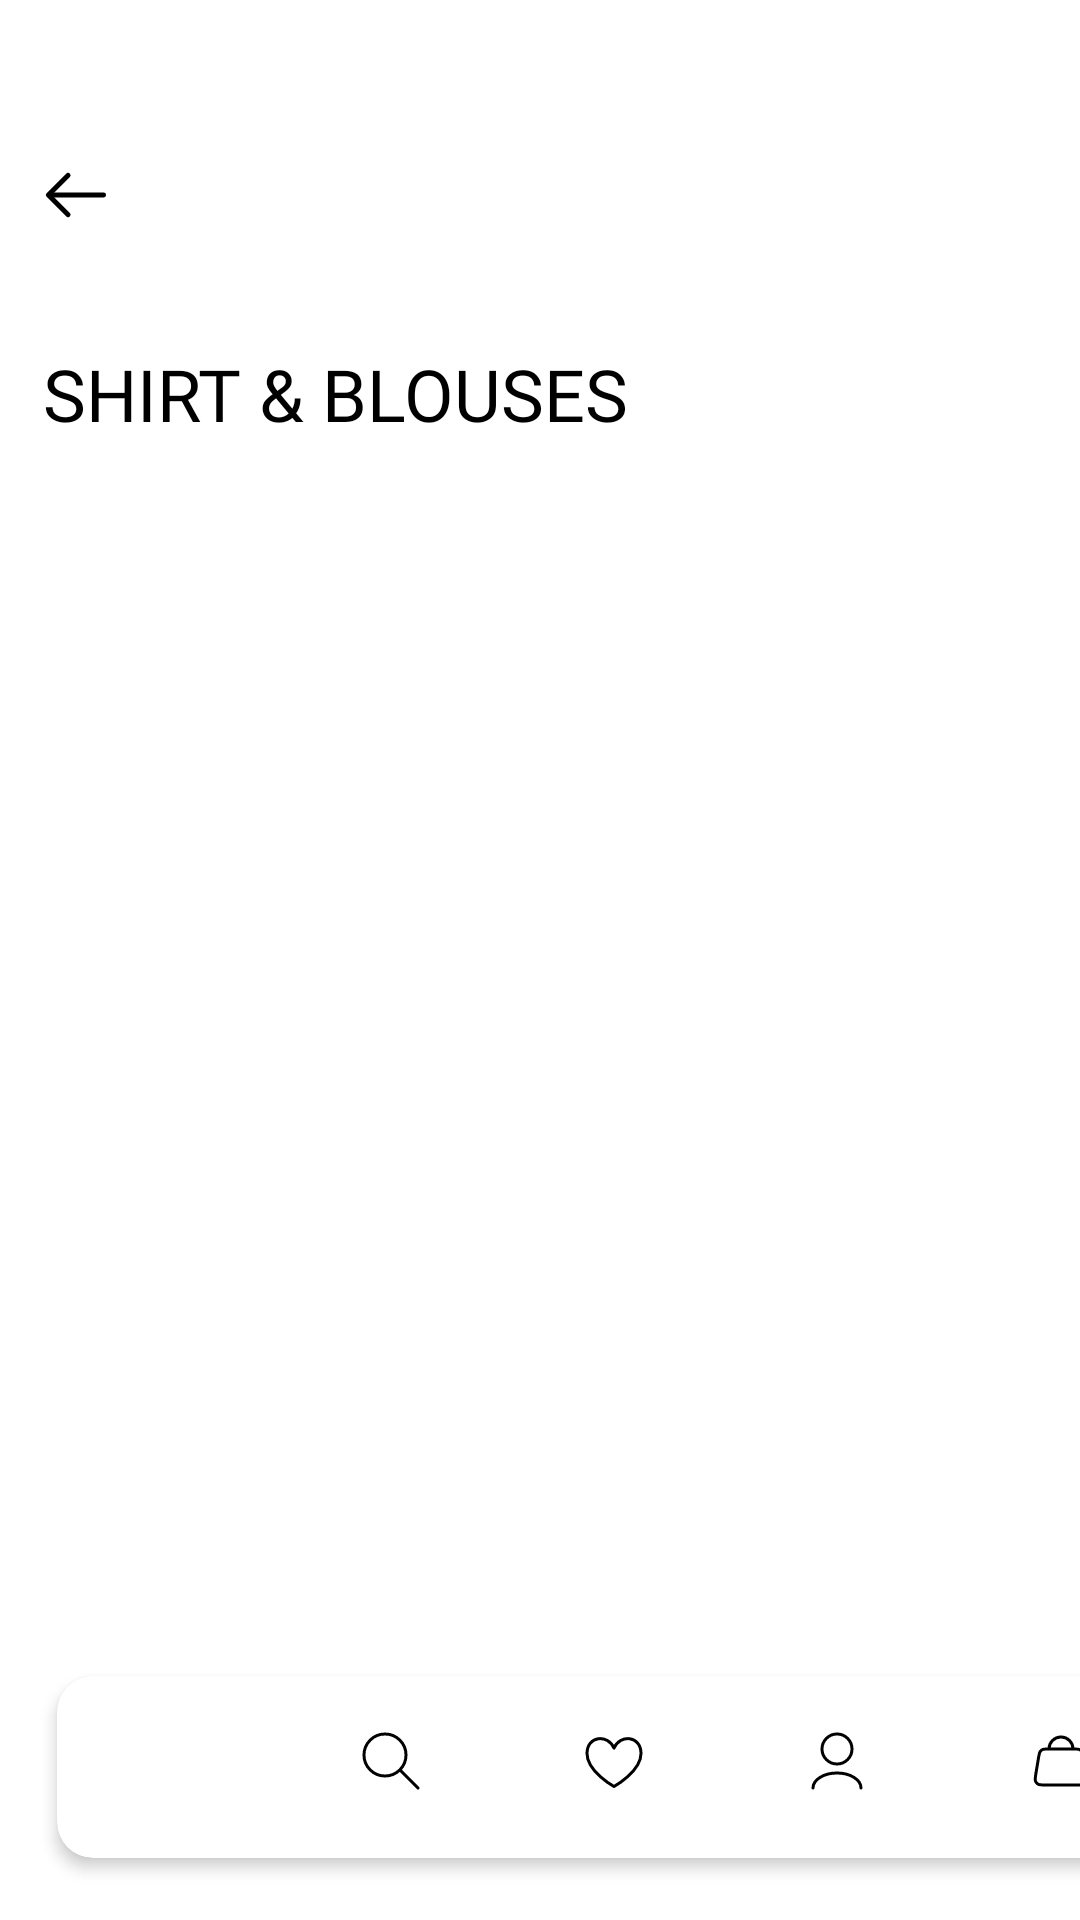

Where icons sit on this 1080x1920 app screen, as detection(x1, y1, x2, y2):
Back: detection(46, 172, 106, 218)
heart: detection(585, 1737, 643, 1788)
search: detection(362, 1732, 420, 1790)
user: detection(811, 1732, 863, 1790)
